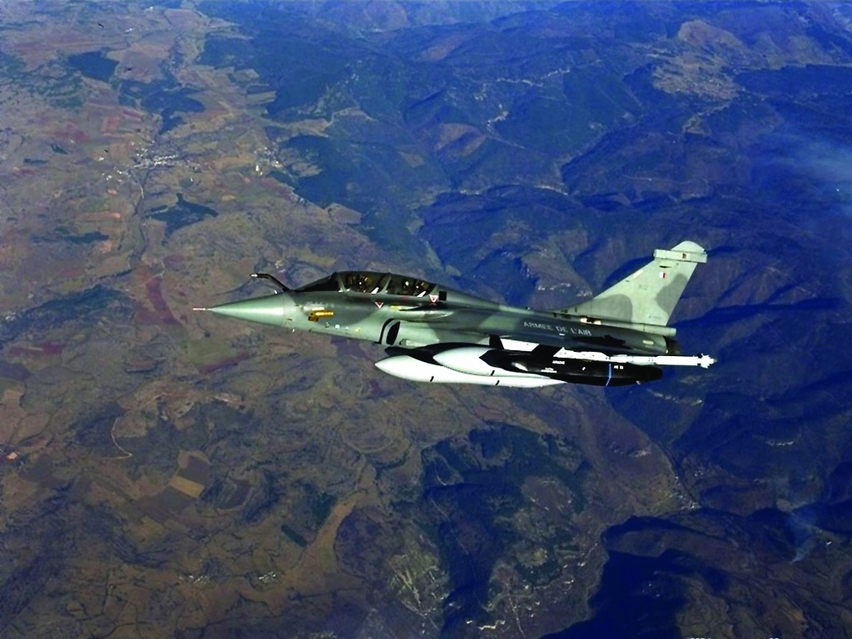airplane: (184, 239, 719, 390)
